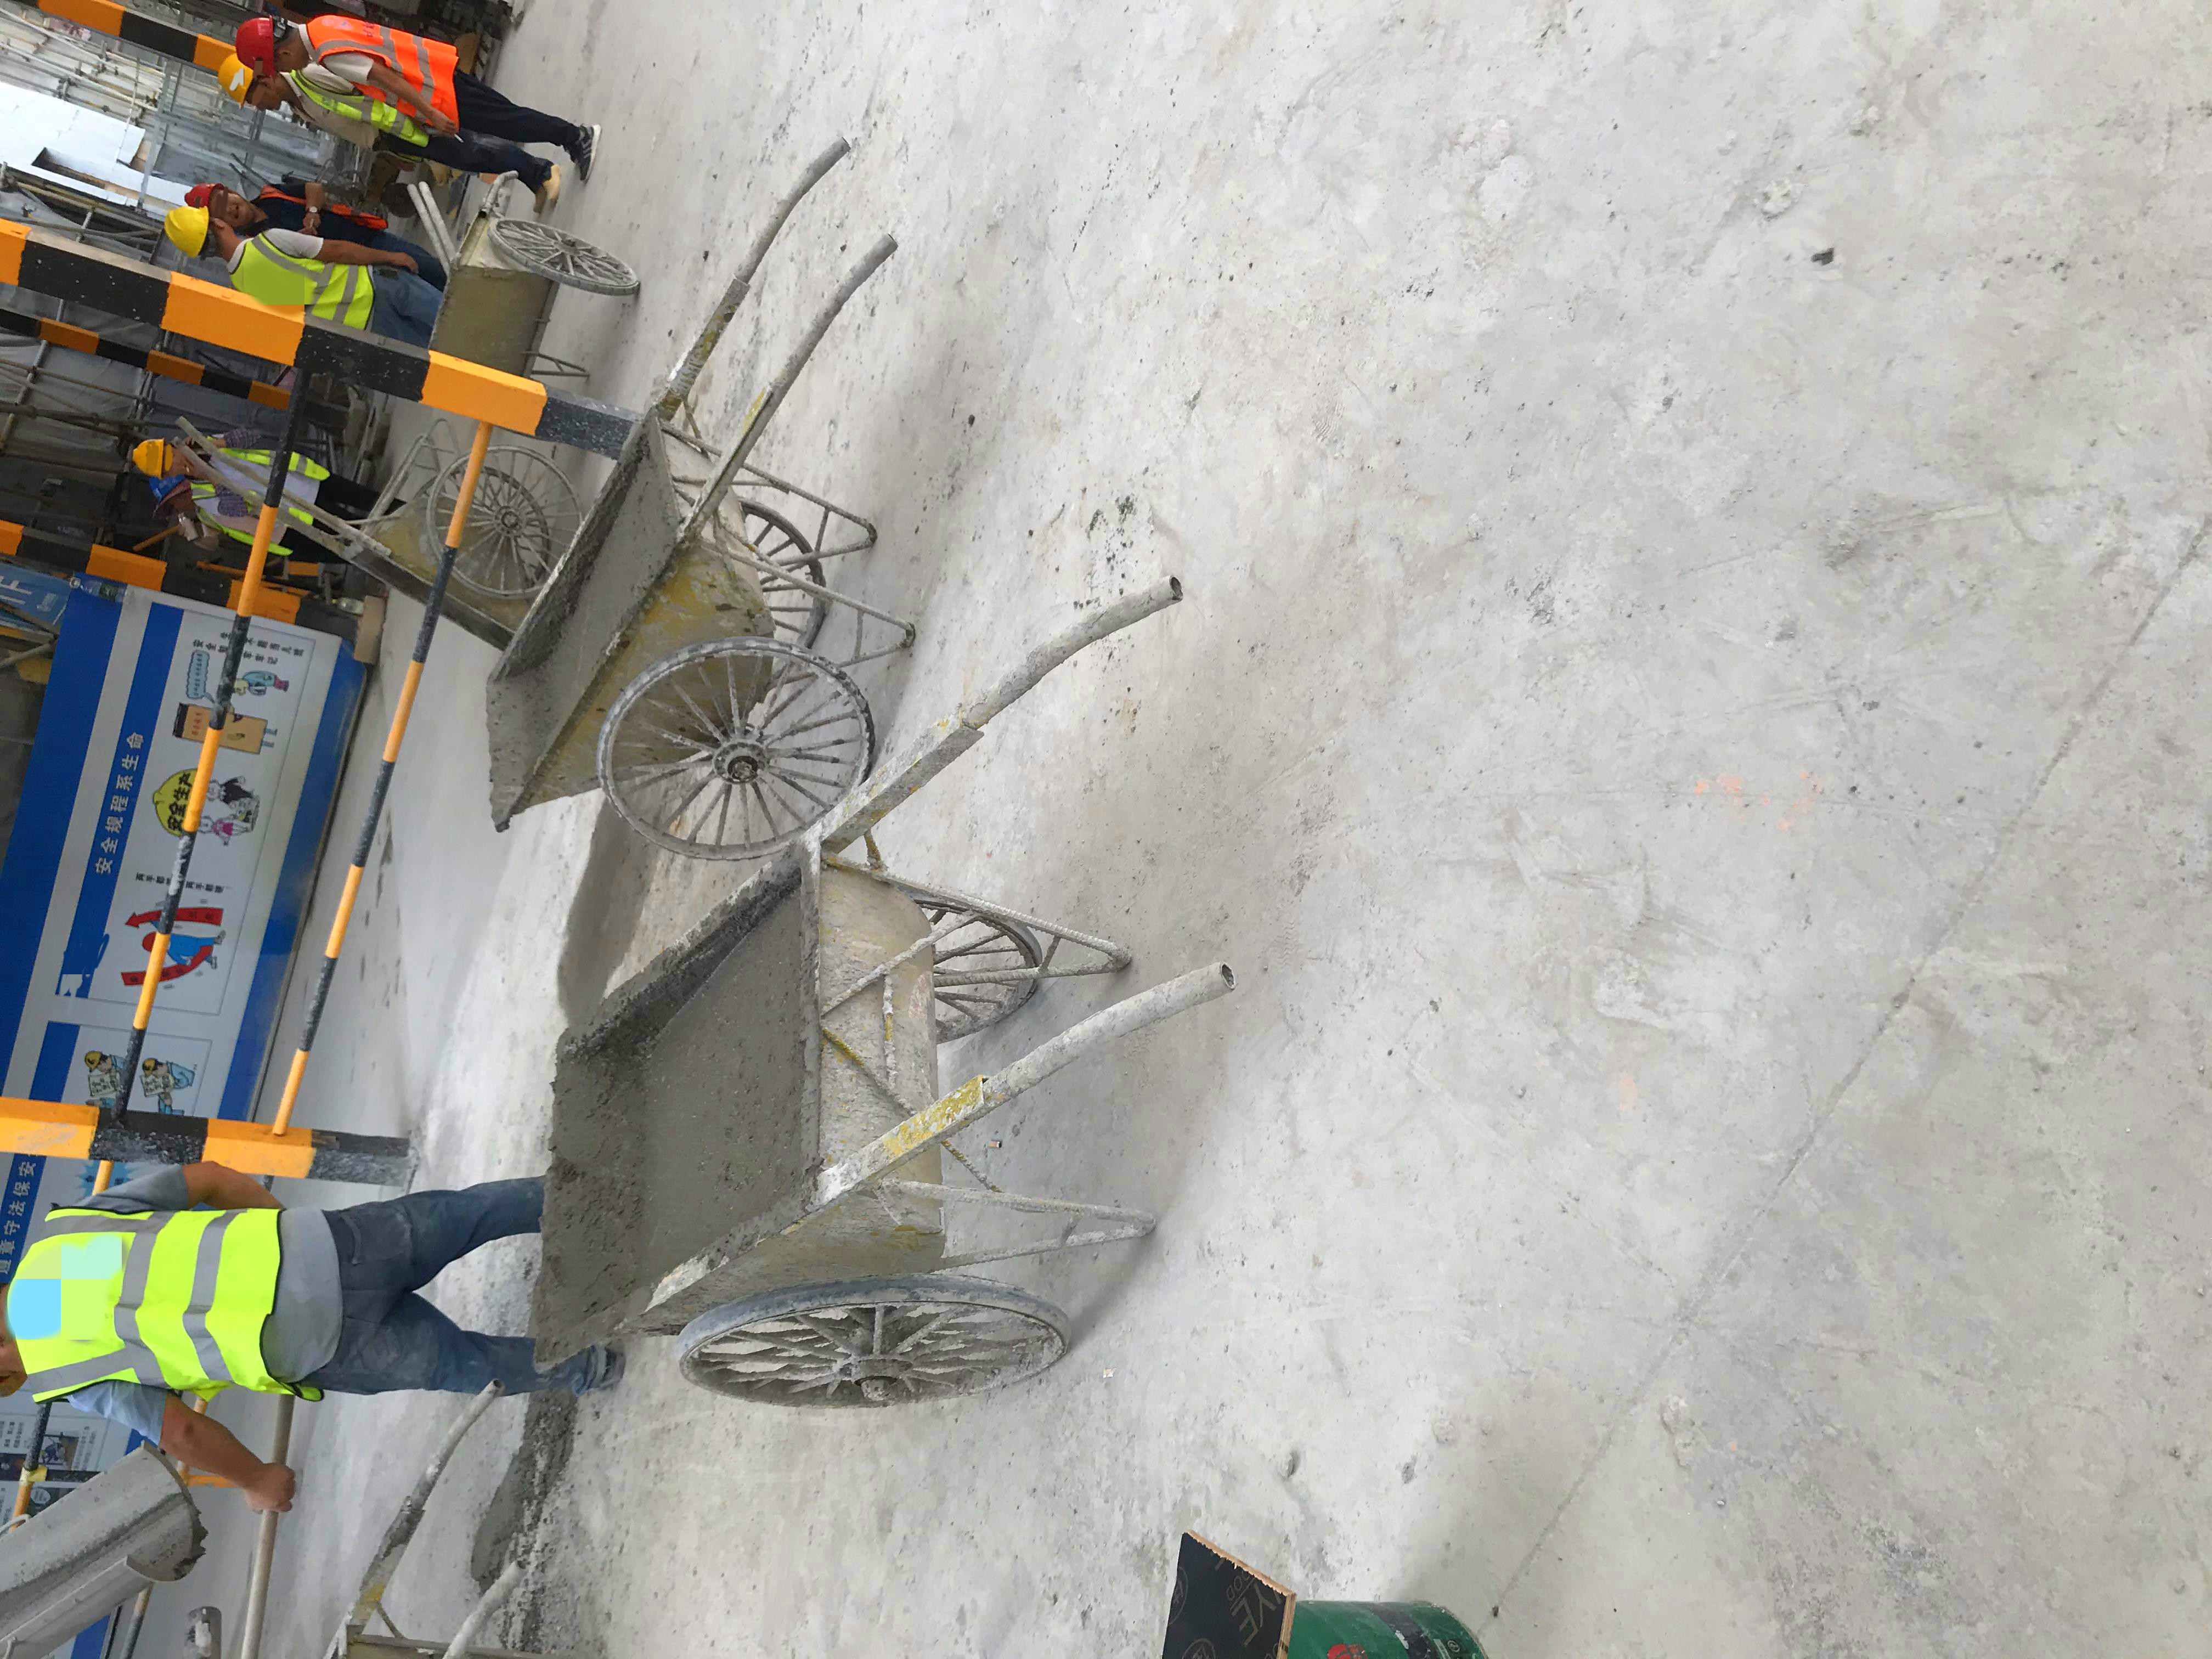helmet: (235, 16, 276, 78), (163, 206, 210, 257), (218, 53, 254, 109), (132, 437, 167, 481), (182, 182, 222, 206)
person: (1, 1156, 593, 1515), (233, 14, 603, 184), (215, 51, 565, 213), (156, 205, 432, 347), (131, 424, 407, 563), (182, 177, 449, 290)
vest: (8, 1204, 298, 1399), (308, 15, 462, 131), (191, 447, 327, 555), (227, 234, 370, 332), (288, 70, 430, 146)
